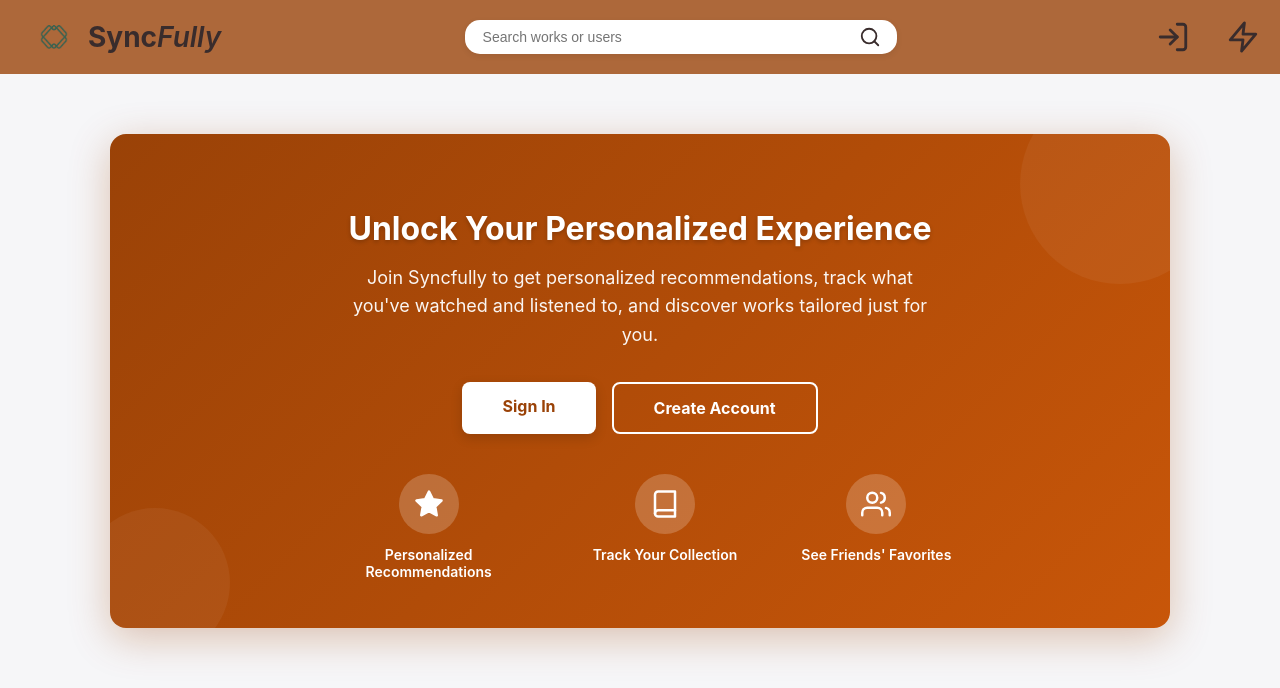
Test: Guest user browsing › Guest is blocked from recommendations and protected features
Step 1. Click the link named "View recommendations" → coordinates (1243, 37), box [1226,20,1260,54]
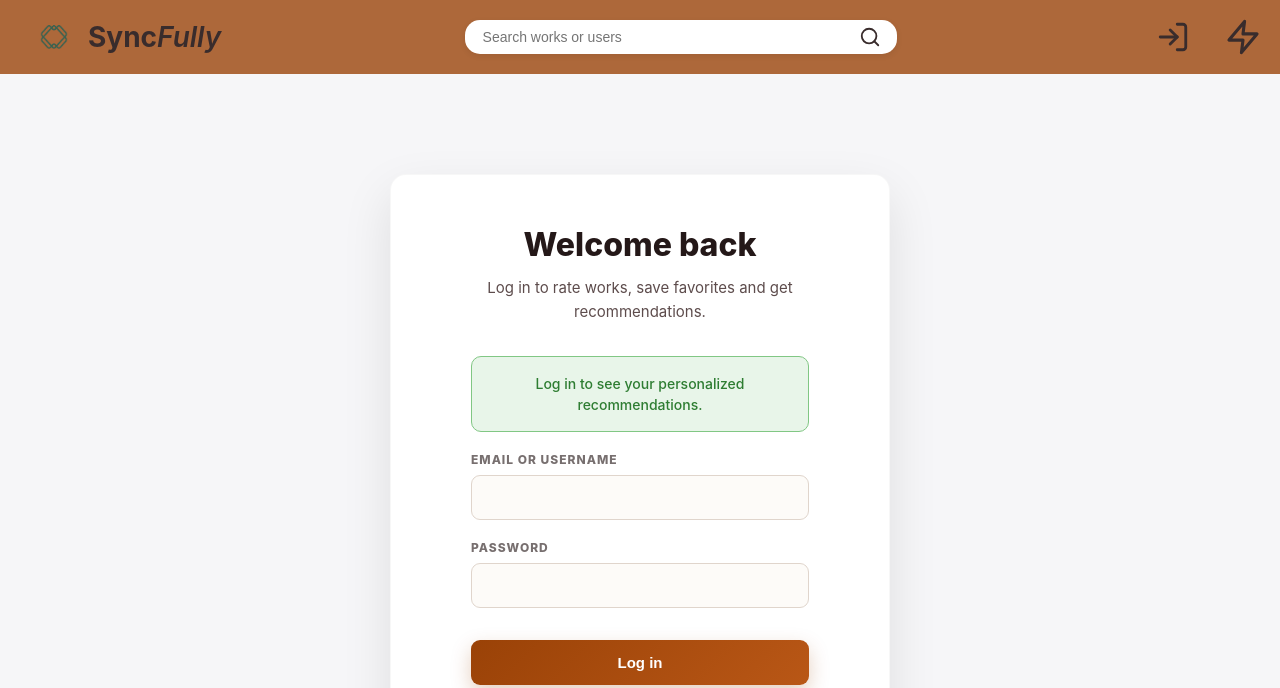
Check: the link named "Login to your account" is shown, box [1156,20,1190,54]
Check: the password field labelled "Password" is shown, box [471,563,809,608]
